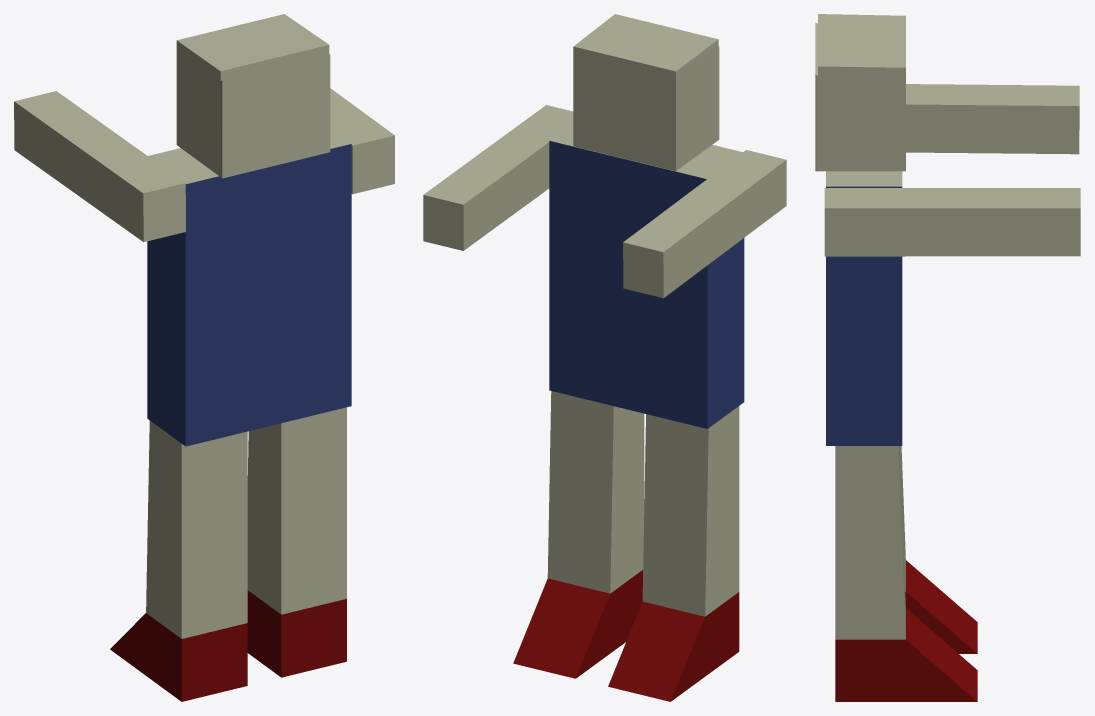
3 views of the same model, side by side, from view 1: azimuth 30°, elevation 25°; view 2: azimuth 150°, elevation 25°; view 3: azimuth 270°, elevation 25° (orthographic). The views are drawn at different scales.
Visible parts, largest first — view 1: Head; view 2: Head; view 3: Head.
Boxes of the visible parts, x1=… form: Head: x1=14, y1=14, x2=394, y2=701; Head: x1=423, y1=14, x2=786, y2=701; Head: x1=815, y1=14, x2=1080, y2=701.
Size of the model in its own units: 0.24 by 0.5731 by 0.2211.
1 material, 1 textured.
